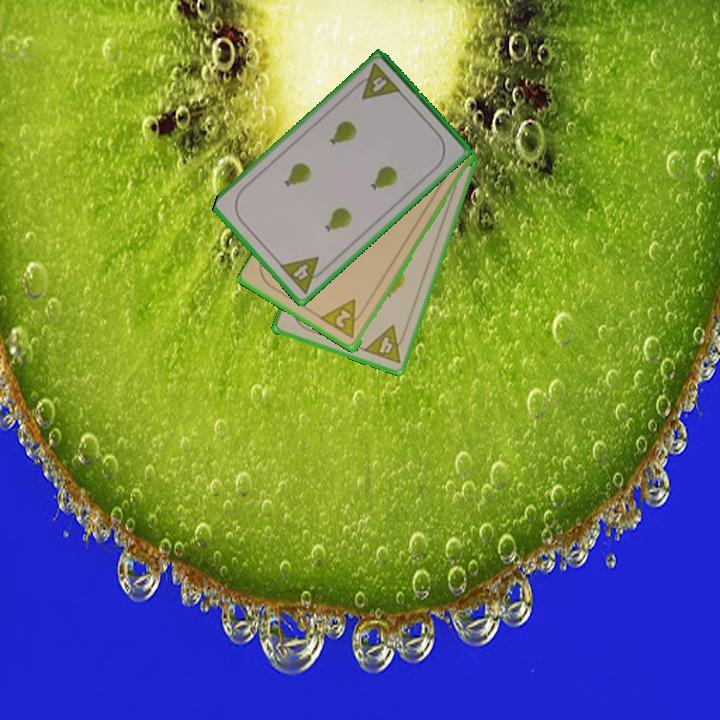2p: (318, 296, 368, 342)
4p: (276, 253, 330, 297), (350, 60, 404, 103), (360, 322, 410, 367)
